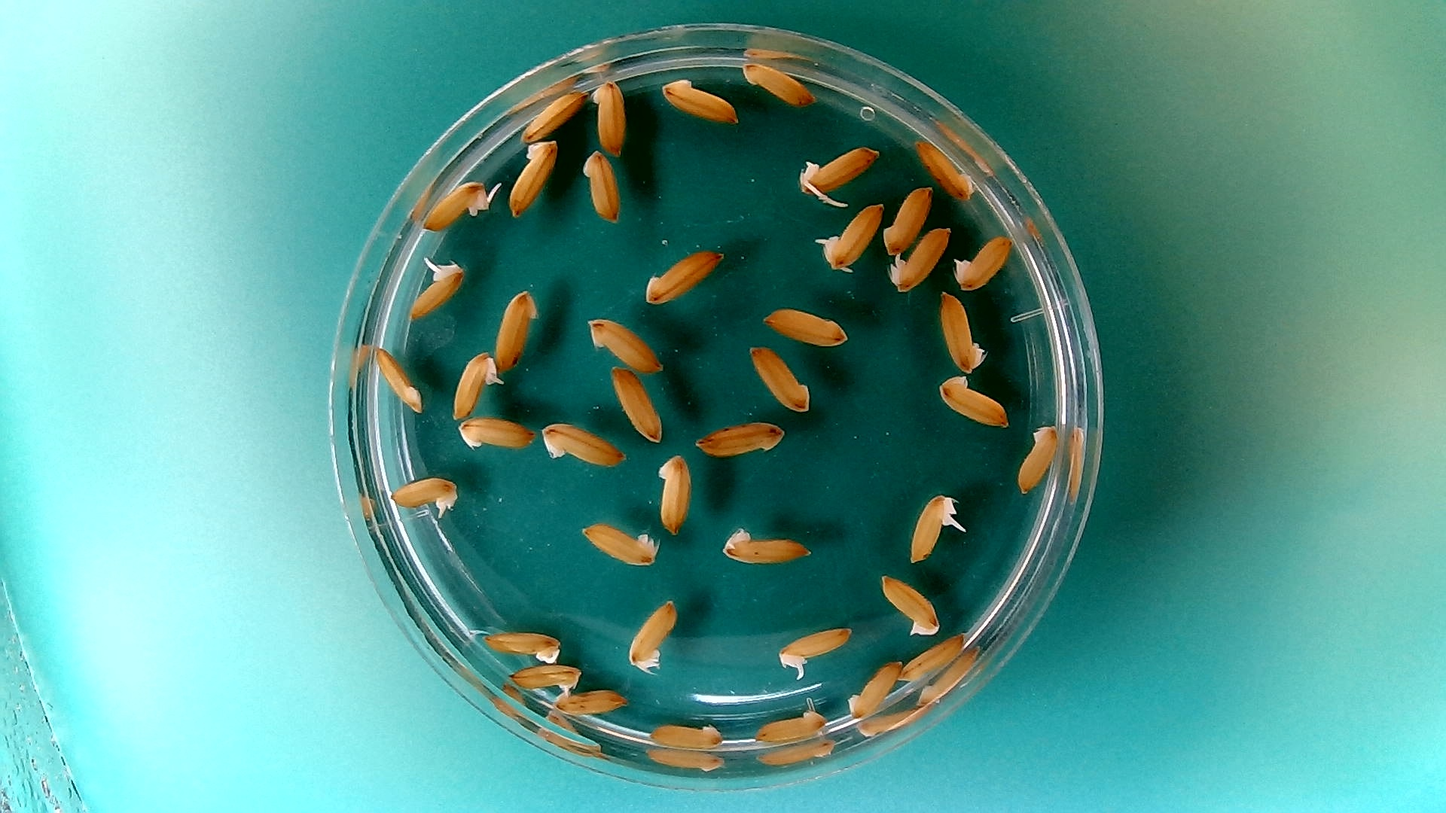no: (642, 245, 726, 306), (745, 342, 812, 415), (886, 221, 953, 294), (584, 312, 664, 373), (535, 418, 627, 469), (609, 362, 665, 445), (505, 136, 561, 218), (624, 594, 681, 674), (718, 522, 819, 567), (933, 373, 1012, 429), (877, 571, 943, 638), (936, 288, 988, 373), (491, 285, 540, 375), (912, 134, 978, 200), (660, 72, 741, 125), (760, 303, 850, 349), (737, 57, 818, 108), (578, 518, 660, 568), (880, 181, 934, 256), (896, 629, 969, 684), (691, 418, 790, 458), (518, 87, 589, 142), (845, 655, 904, 719), (752, 699, 829, 747), (372, 344, 424, 415), (654, 448, 694, 538), (578, 147, 623, 224), (1014, 421, 1060, 495), (478, 625, 563, 665), (454, 413, 537, 452), (590, 75, 628, 158), (645, 717, 725, 752), (554, 688, 630, 717)
yes: (814, 197, 886, 272), (419, 177, 506, 232), (795, 140, 883, 194), (774, 620, 858, 675), (448, 346, 502, 421), (905, 495, 961, 565), (950, 231, 1015, 291), (407, 260, 466, 323), (389, 471, 462, 518), (504, 658, 585, 695)
